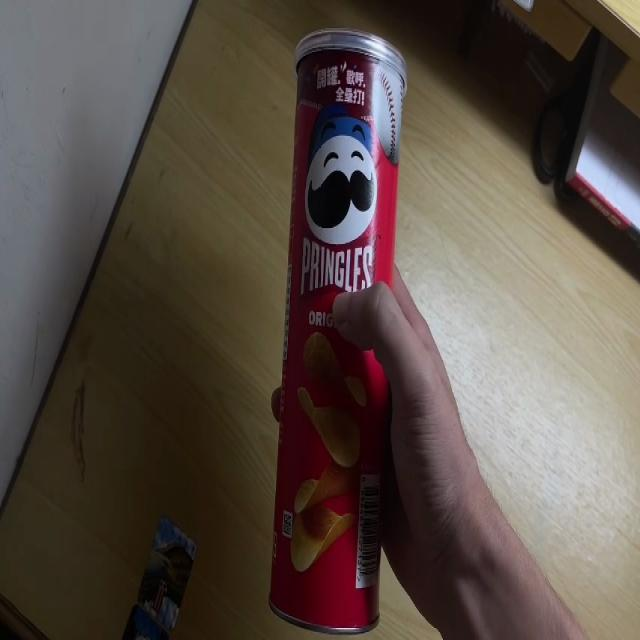Pringles: (267, 27, 407, 634)
